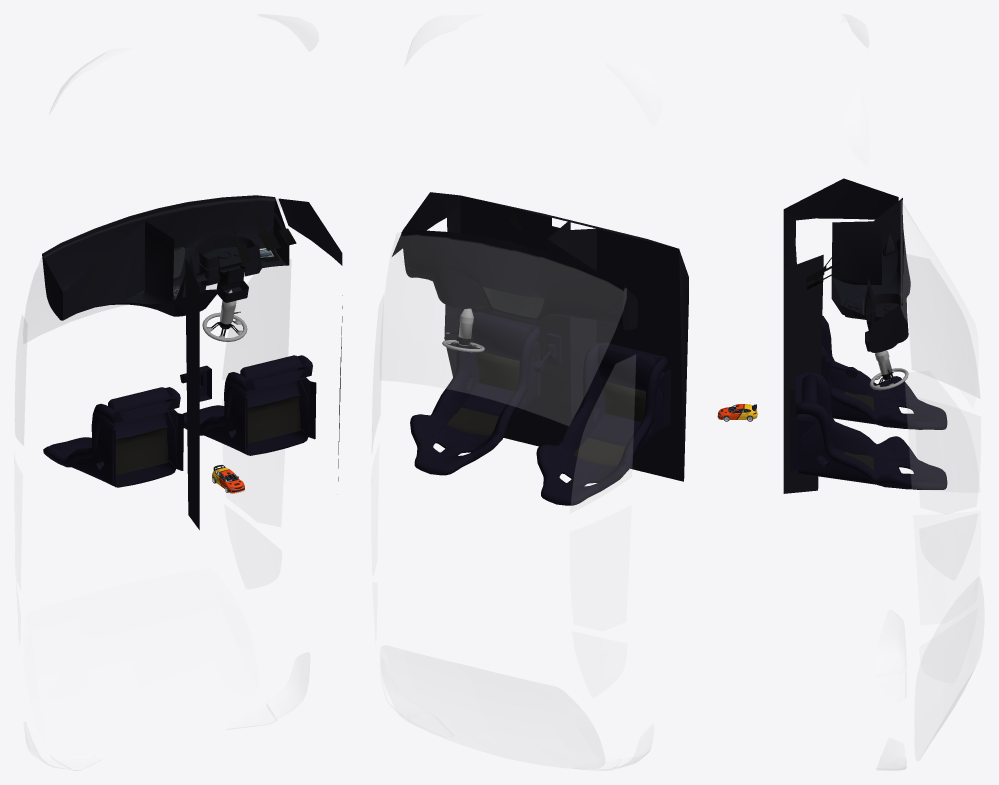
The picture shows the model from 3 angles, left to right: view 1: azimuth 30°, elevation 25°; view 2: azimuth 150°, elevation 25°; view 3: azimuth 270°, elevation 25°; orthographic projection. The views are drawn at different scales.
Visible parts, largest first — view 1: Inside, Glass, Steer, Body; view 2: Inside, Glass; view 3: Inside, Glass, Body.
Boxes of the visible parts, box(x1,y1,x2,y2) form: Inside: box(42, 195, 342, 529); Glass: box(15, 14, 302, 770); Steer: box(202, 312, 247, 341); Body: box(212, 465, 244, 493); Inside: box(392, 192, 688, 505); Glass: box(372, 41, 650, 770); Inside: box(783, 178, 947, 493); Glass: box(843, 14, 979, 770); Body: box(717, 404, 757, 419).
Size of what is drawn, in the model's own units: 1799 by 4456 by 1587.
